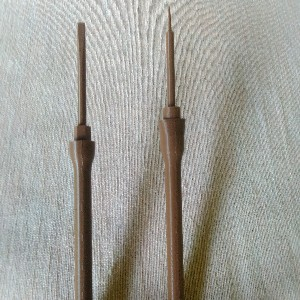obeng: (68, 22, 96, 300)
solder: (158, 5, 187, 300)
